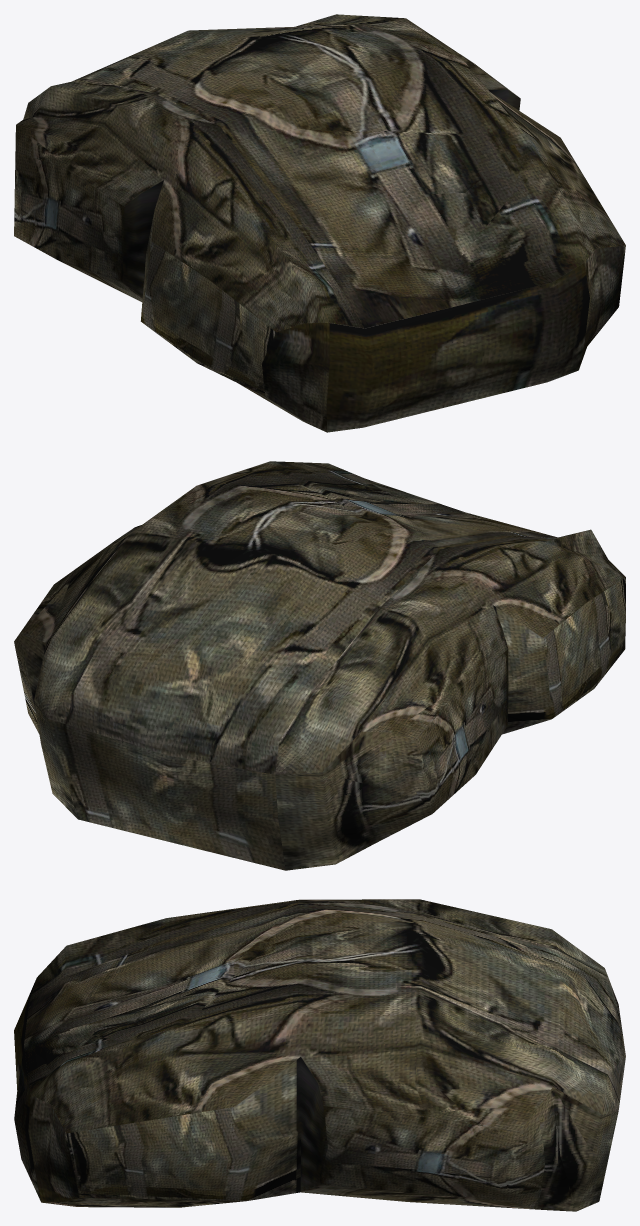
The model's file is backpack.obj.
3 renders of one model, top to bottom at view 1: azimuth 30°, elevation 25°; view 2: azimuth 150°, elevation 25°; view 3: azimuth 270°, elevation 25°, orthographic. The views are drawn at different scales.
Visible parts, largest first — view 1: backpack; view 2: backpack; view 3: backpack.
Boxes of the visible parts, bbox=[...] form: backpack: bbox=[14, 14, 625, 432]; backpack: bbox=[14, 461, 625, 870]; backpack: bbox=[14, 899, 625, 1211].
Size of the model in its own units: 0.6986 by 0.3576 by 0.9091.
